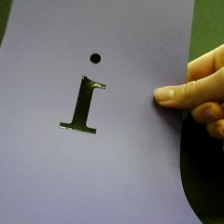violet1: (54, 46, 110, 136)
